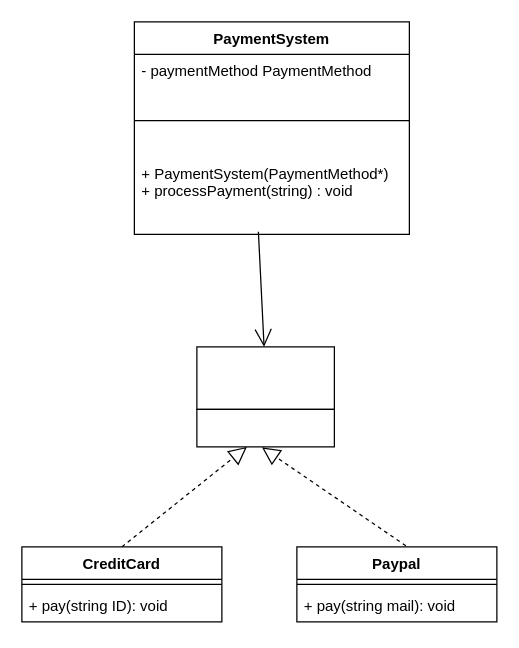
Some shapes in this 519 by 648 pixel diagram are drawn without their labels. Here are the shapes that lost their labels. From the top down, the centre of each, then its label:
At point (265, 377): "«interface» PaymentMethod".
At point (265, 427): "+ pay(string): void".
